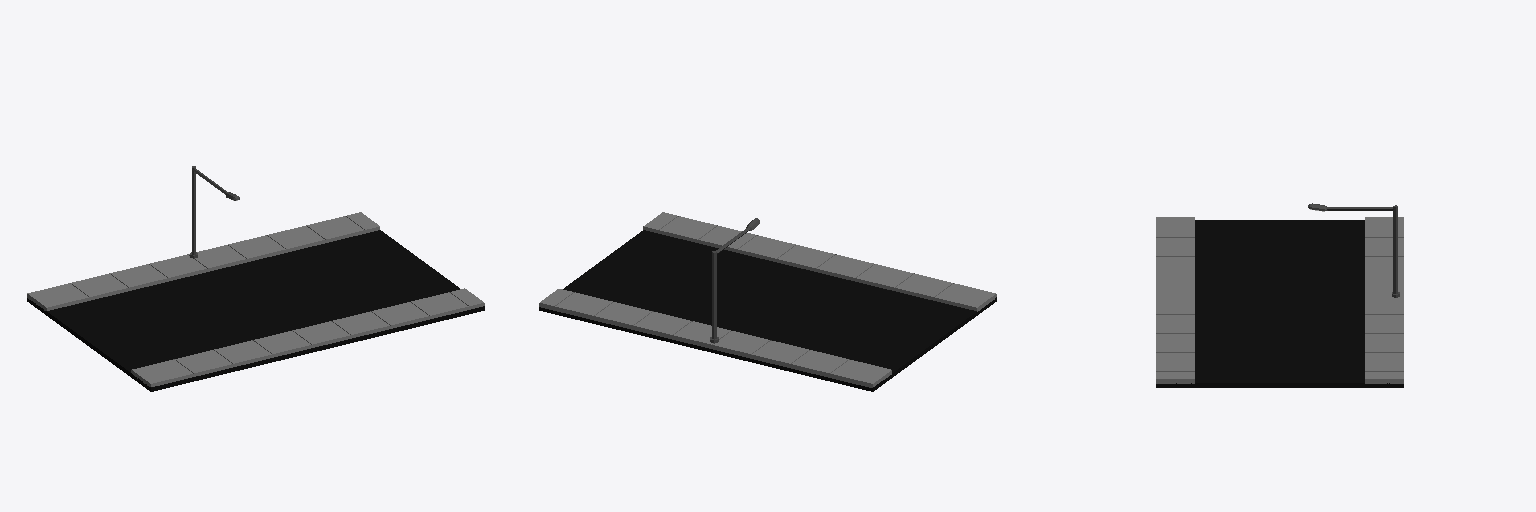
File: rettilineo.obj
The picture shows the model from 3 angles: view 1: azimuth 30°, elevation 25°; view 2: azimuth 150°, elevation 25°; view 3: azimuth 270°, elevation 25°; orthographic projection.
Parts seen in each view (by area): view 1: Объект_Куб, Объект_Куб.1-Ноль_объект, Объект_Куб.1-Ноль_объект_1; view 2: Объект_Куб, Объект_Куб.1-Ноль_объект_1, Объект_Куб.1-Ноль_объект; view 3: Объект_Куб, Объект_Куб.1-Ноль_объект, Объект_Куб.1-Ноль_объект_1.
Part boxes in pixels (x1,y1,x2,y2): Объект_Куб: (27,230,484,391); Объект_Куб.1-Ноль_объект: (131,288,484,386); Объект_Куб.1-Ноль_объект_1: (27,212,379,310); Объект_Куб: (539,230,996,391); Объект_Куб.1-Ноль_объект_1: (539,289,891,387); Объект_Куб.1-Ноль_объект: (643,212,996,311); Объект_Куб: (1156,220,1403,387); Объект_Куб.1-Ноль_объект: (1156,217,1194,383); Объект_Куб.1-Ноль_объект_1: (1365,217,1403,383).
Size of the model in its own units: 659 by 189 by 423.